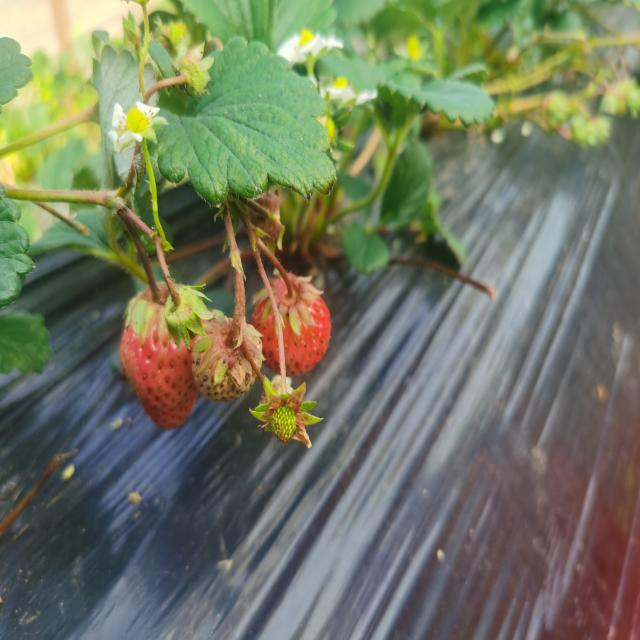stem: (131, 231, 163, 305), (227, 250, 245, 347), (267, 251, 294, 300)
strawberry: (120, 283, 198, 430), (271, 274, 331, 376), (193, 318, 256, 401), (252, 289, 279, 374), (245, 322, 262, 368)
